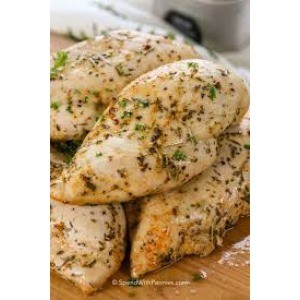chicken breast_brain food: (114, 94, 180, 168), (51, 225, 116, 271), (81, 41, 130, 89)
